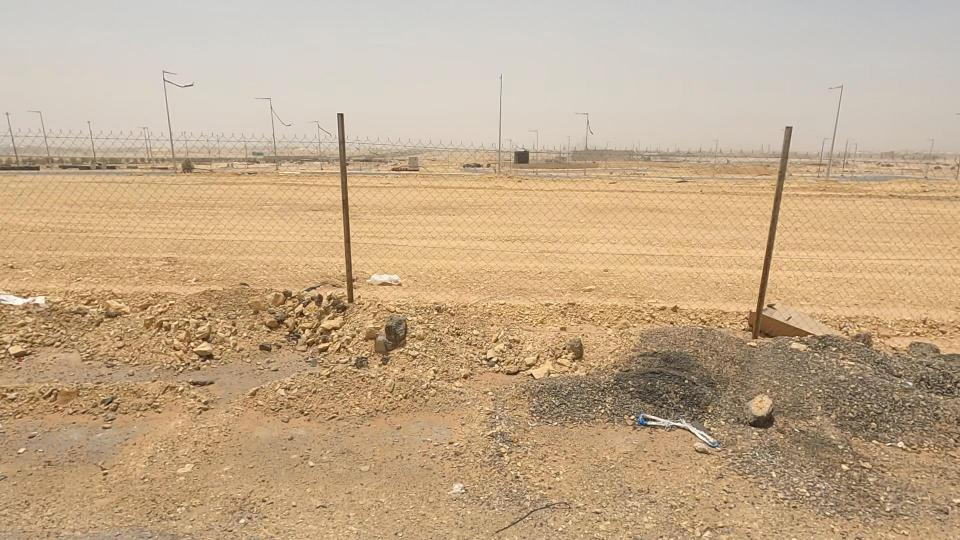GARBAGE: (525, 375, 792, 488), (320, 245, 443, 314), (0, 267, 93, 339)
